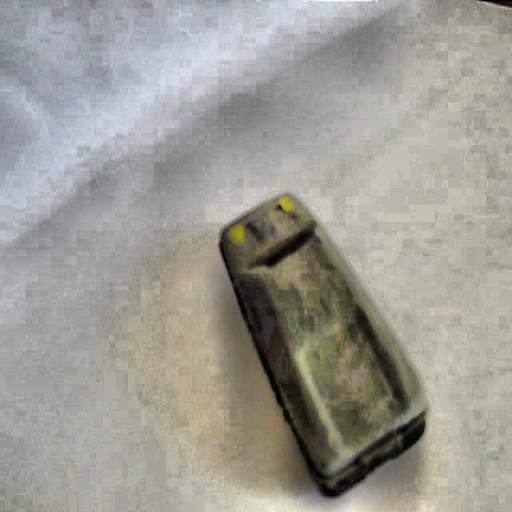normal_car: (216, 189, 428, 498)
